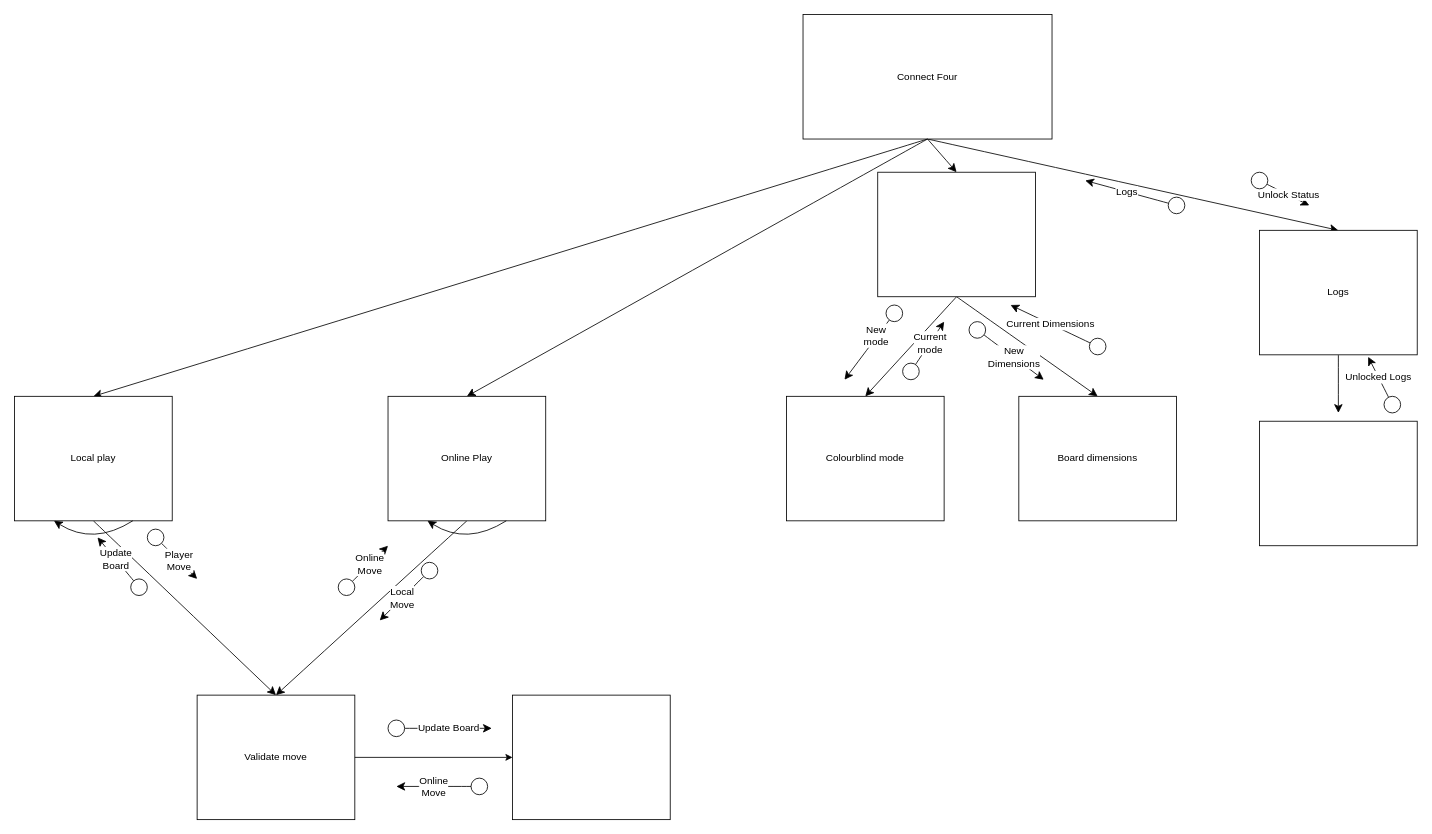
Some shapes in this 1432 by 834 pixel diagram are drawn without their labels. The shapes that lost their labels are listed below. From the top down, each one's centre as x and y in pixels, then its label:
At point 956,234: "Settings".
At point 1338,483: "Read logs".
At point 591,757: "Opponent".
